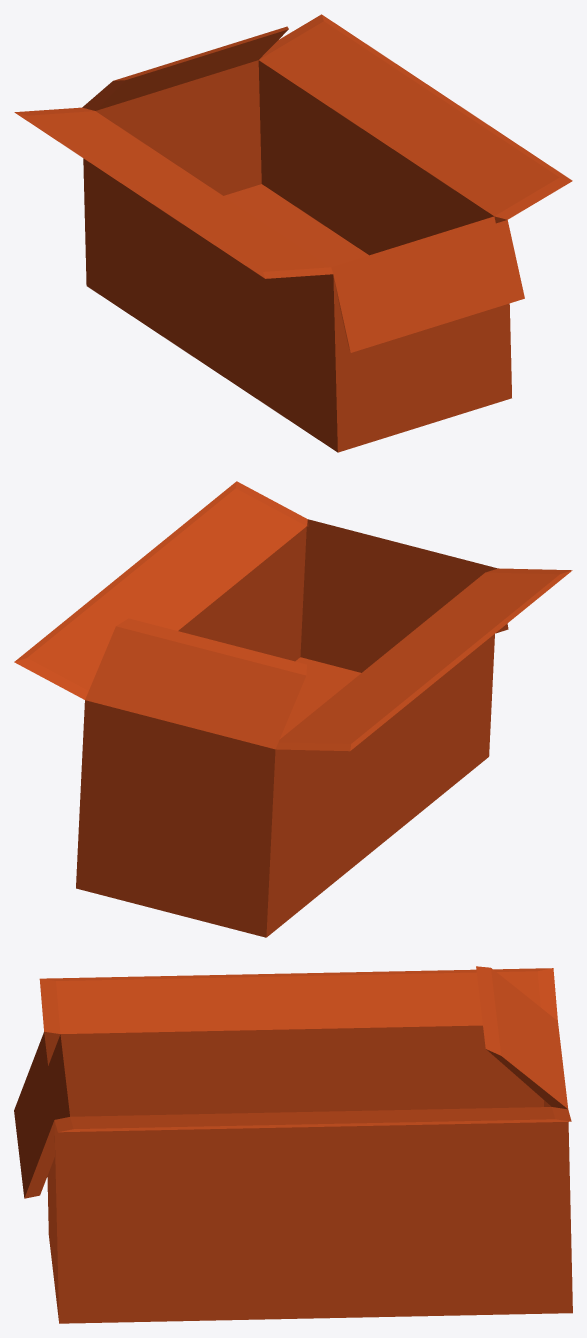
File: caixaPapelao2.FBX
3 renders of one model, top to bottom at view 1: azimuth 30°, elevation 25°; view 2: azimuth 150°, elevation 25°; view 3: azimuth 270°, elevation 25°, orthographic. The views are drawn at different scales.
Visible parts, largest first — view 1: Box003; view 2: Box003; view 3: Box003.
Part boxes in pixels (left/top/right/bottom): Box003: left=14, top=14, right=572, bottom=452; Box003: left=14, top=481, right=572, bottom=937; Box003: left=14, top=966, right=572, bottom=1323.
Size of the model in its own units: 70.81 by 49.01 by 93.03.
